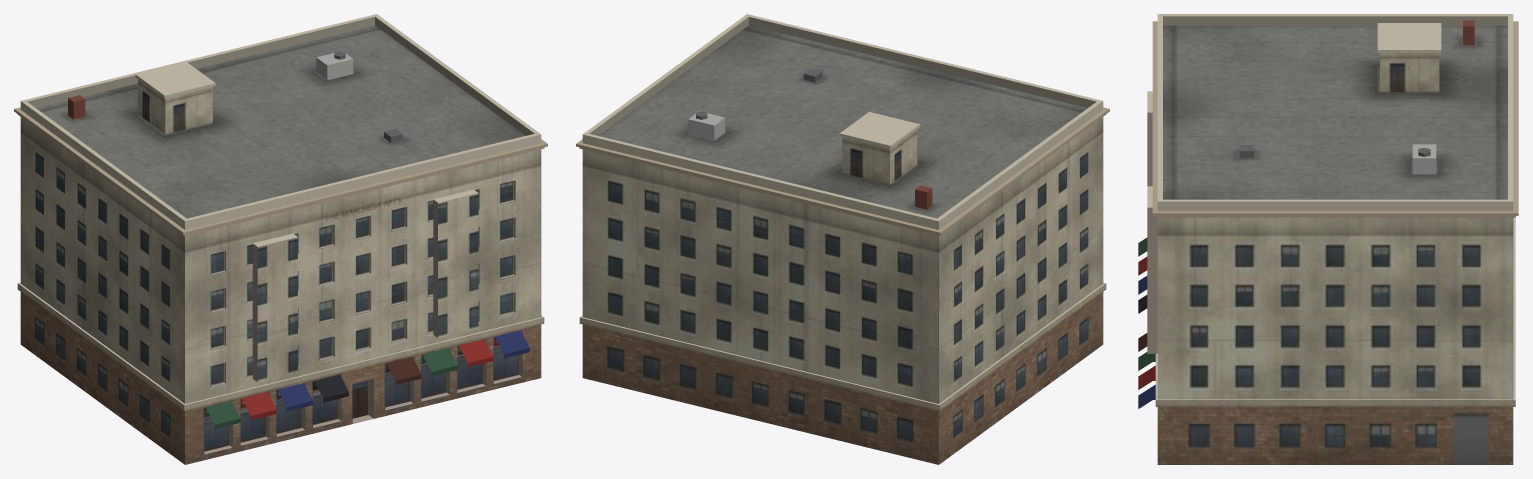
The model's file is seattle_belltown_b.glb.
3 renders of one model, left to right at view 1: azimuth 30°, elevation 25°; view 2: azimuth 150°, elevation 25°; view 3: azimuth 270°, elevation 25°, orthographic. The views are drawn at different scales.
Visible parts, largest first — view 1: seattle_belltown_b; view 2: seattle_belltown_b; view 3: seattle_belltown_b.
Boxes of the visible parts, x1=… form: seattle_belltown_b: x1=14, y1=14, x2=547, y2=464; seattle_belltown_b: x1=576, y1=14, x2=1109, y2=464; seattle_belltown_b: x1=1138, y1=14, x2=1518, y2=464.
Size of the model in its own units: 30.7 by 22.12 by 25.65.
Materials: 1 (1 with a texture image).
